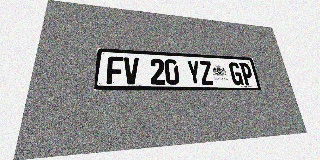0: (164, 59, 179, 85)
2: (150, 58, 165, 85)
F: (106, 56, 123, 84)
G: (228, 62, 244, 85)
P: (239, 63, 255, 85)
V: (123, 57, 139, 84)
Y: (186, 60, 202, 85)
Z: (199, 61, 214, 85)
